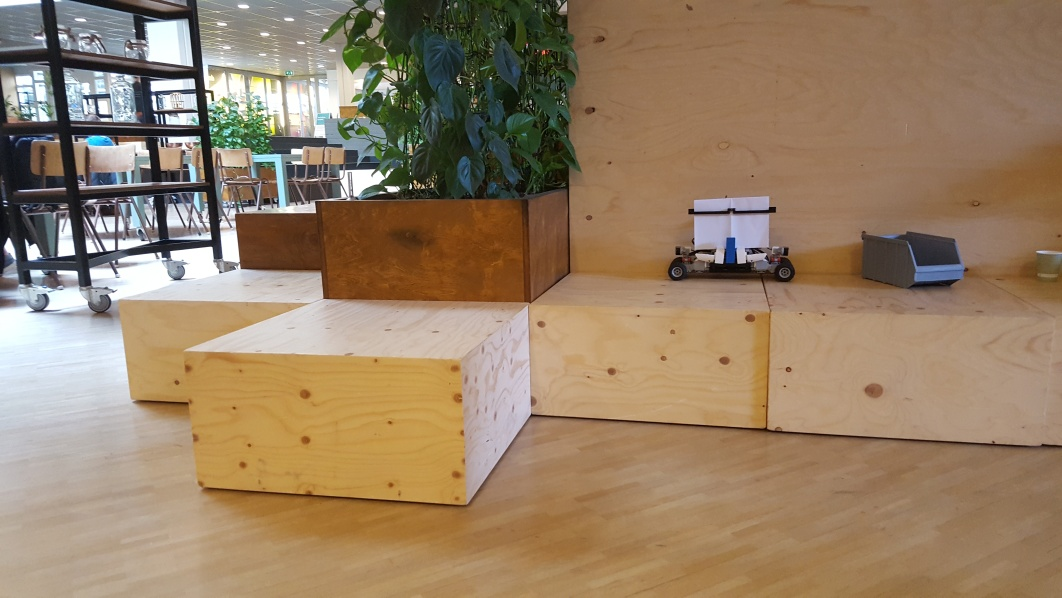beam: (724, 235, 736, 268)
cup: (1033, 248, 1062, 283)
tray: (859, 229, 966, 290)
